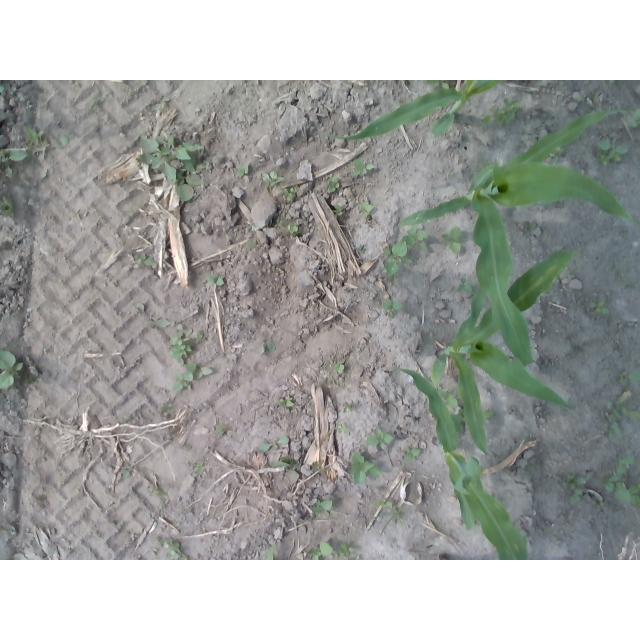Maize: (397, 108, 632, 368), (428, 248, 576, 458), (386, 361, 529, 560), (325, 80, 500, 144)
Weeds: (136, 134, 208, 203), (599, 455, 640, 511), (0, 347, 42, 390), (605, 391, 640, 440), (22, 125, 69, 161), (131, 302, 183, 330), (438, 385, 466, 434), (382, 241, 413, 279), (172, 364, 212, 393), (481, 98, 521, 127), (347, 452, 382, 484), (594, 138, 629, 166), (1, 147, 28, 181), (169, 328, 194, 364), (560, 472, 585, 505), (400, 224, 429, 252), (441, 226, 467, 254), (261, 170, 285, 196), (365, 427, 393, 449), (163, 538, 190, 560), (305, 541, 336, 560), (129, 250, 157, 268), (259, 436, 290, 452), (269, 455, 299, 470), (454, 277, 478, 295), (381, 298, 402, 318), (337, 542, 360, 560), (353, 159, 376, 177), (588, 301, 610, 316), (203, 273, 226, 287), (0, 195, 14, 217), (280, 220, 301, 234), (619, 370, 640, 384), (404, 446, 421, 462), (281, 186, 298, 202), (313, 500, 331, 515), (424, 80, 450, 90), (627, 108, 640, 128), (260, 544, 276, 560), (278, 395, 295, 409), (393, 507, 406, 525), (361, 202, 374, 219), (374, 498, 392, 510), (326, 177, 340, 192), (259, 342, 275, 355), (547, 145, 561, 157), (161, 402, 173, 415), (214, 422, 226, 434), (336, 422, 348, 434), (236, 164, 248, 176), (331, 204, 343, 216), (341, 403, 355, 413), (332, 363, 345, 373), (193, 463, 204, 474), (484, 409, 495, 420), (154, 487, 166, 497), (196, 330, 205, 343), (121, 470, 131, 479), (243, 240, 253, 249), (249, 222, 257, 230), (90, 96, 98, 104), (359, 246, 366, 254), (528, 222, 536, 229), (124, 416, 132, 421), (597, 502, 605, 507), (608, 80, 617, 84)
